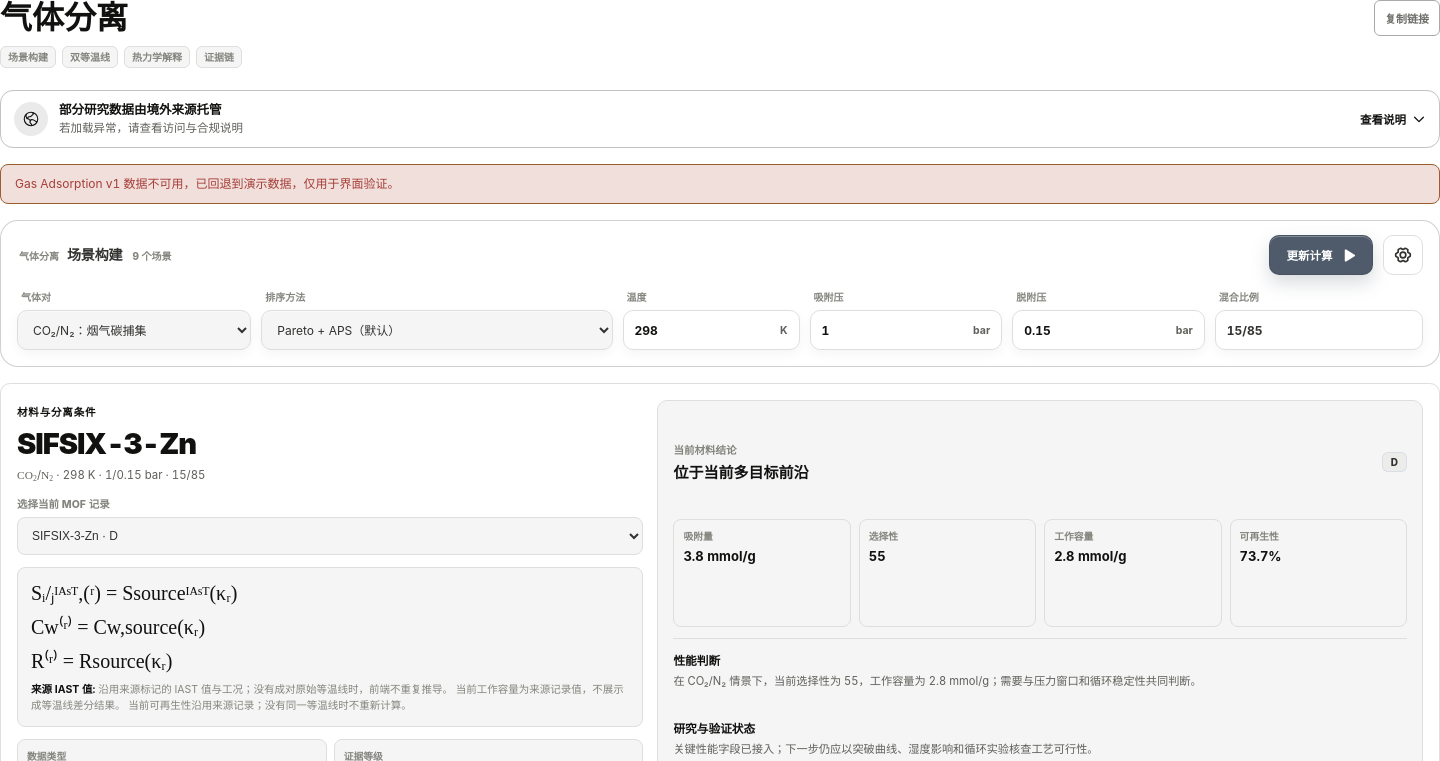
Test: GasSep adaptation regressions › provides PPT-relevant C2 feed scenarios and validates the ratio input
Select "C₂H₂/C₂H₄：痕量乙炔脱除" in the dropdown named "gas pair": (134, 330) left=17, top=310, right=251, bottom=350
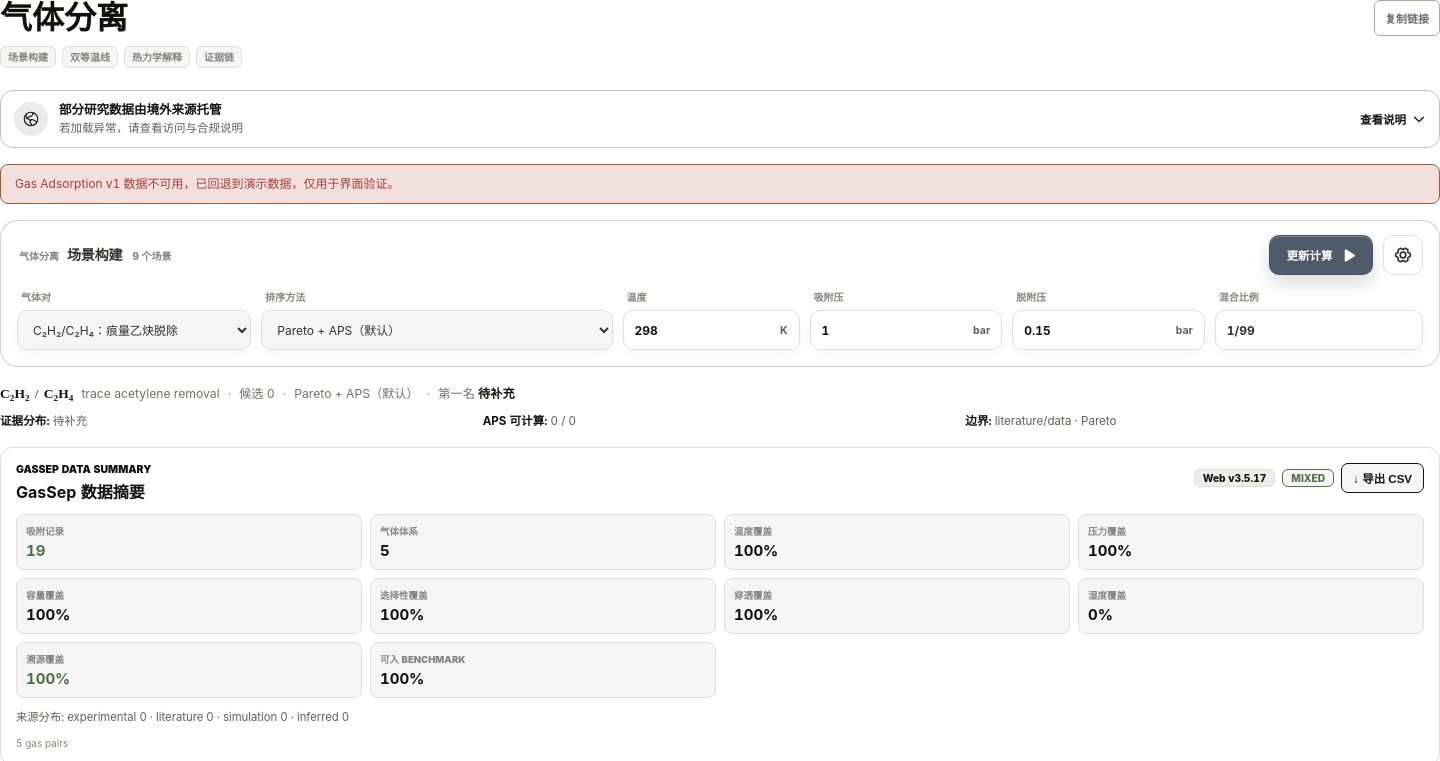
Click the button named "展开更多场景设置": (1403, 255) left=1383, top=235, right=1423, bottom=275
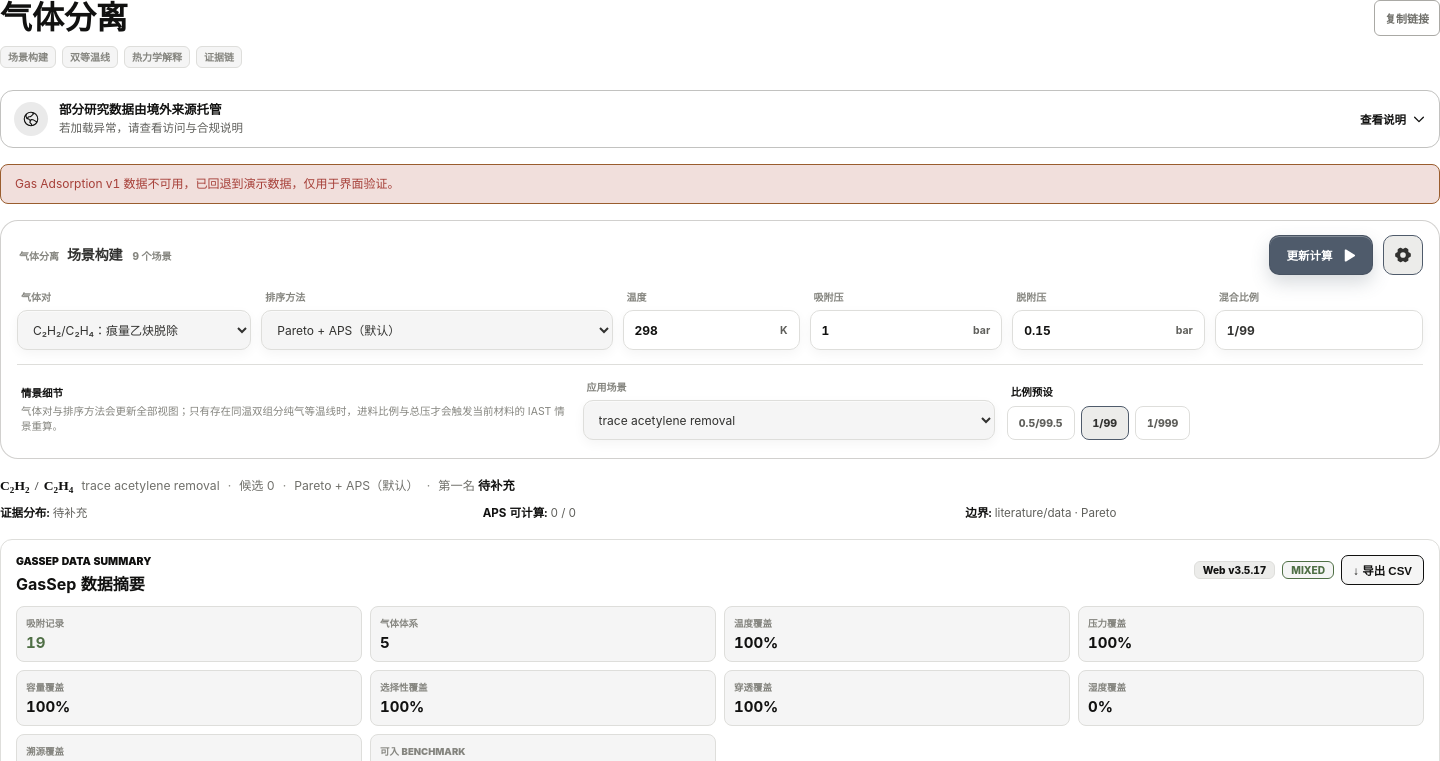
Now the element with test id "gassep-scenario-advanced" is shown, box left=17, top=364, right=1423, bottom=442
Now the button "0.5/99.5" is shown, box left=1007, top=406, right=1074, bottom=440
Now the button "1/99" is shown, box left=1080, top=406, right=1129, bottom=440
Replace the text in the field labelled "混合比例" with "bad-ratio": (1319, 330) left=1215, top=310, right=1423, bottom=350
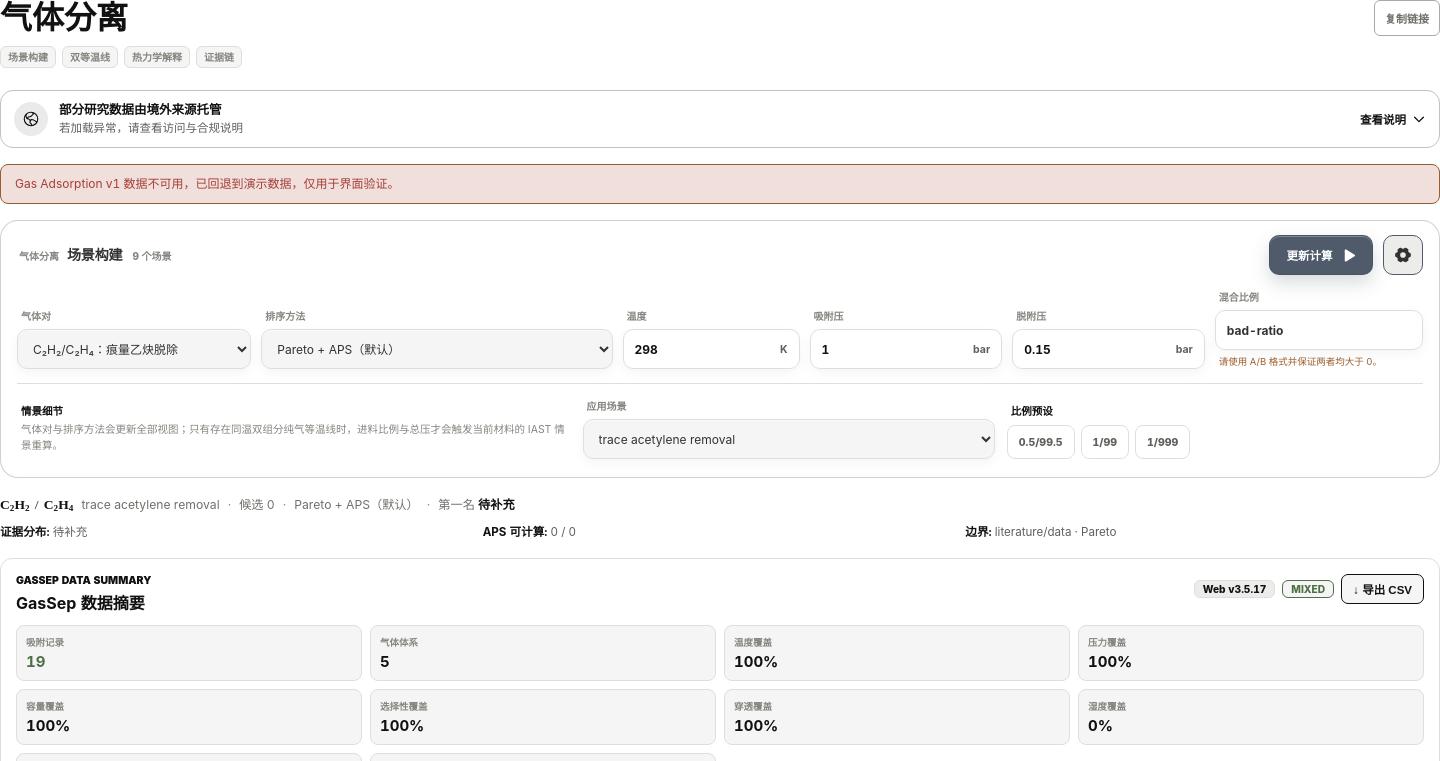
Now the text "请使用 A/B 格式" is shown, box left=1219, top=356, right=1382, bottom=367
